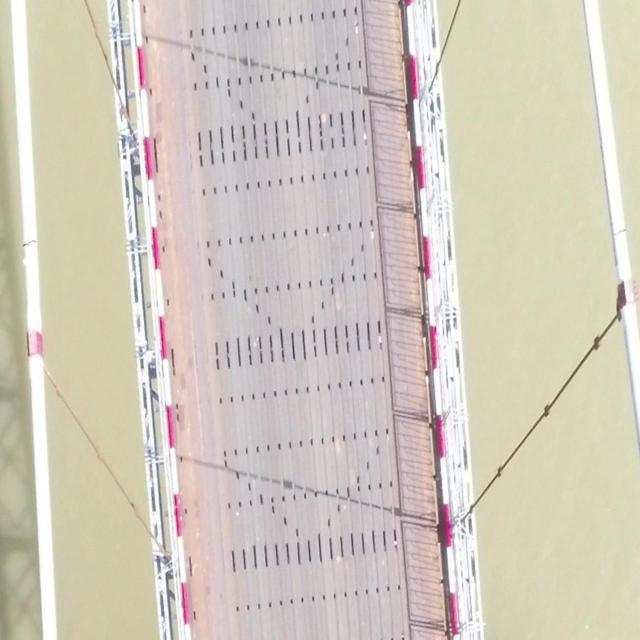crack: (612, 227, 627, 237), (23, 239, 37, 247)
